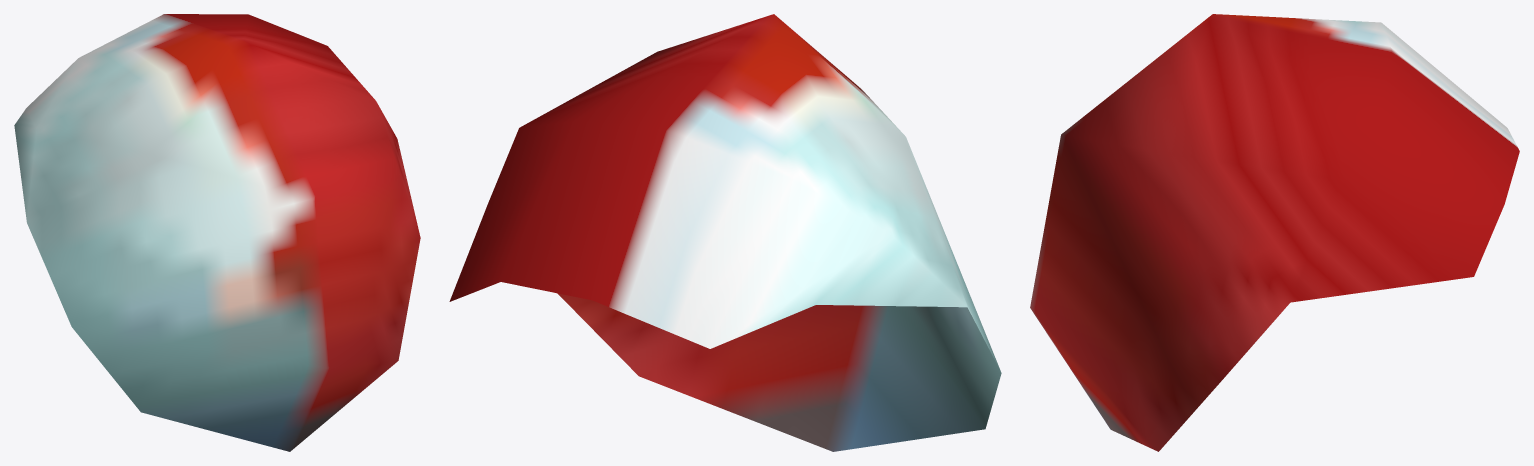
Rendered from fg_seedpitfall_out.dae.
3 views of the same model, side by side, from view 1: azimuth 30°, elevation 25°; view 2: azimuth 150°, elevation 25°; view 3: azimuth 270°, elevation 25° (orthographic). The views are drawn at different scales.
Parts seen in each view (by area): view 1: fg_seedpitfall_out; view 2: fg_seedpitfall_out; view 3: fg_seedpitfall_out.
Part boxes in pixels (bbox=[...]): fg_seedpitfall_out: bbox=[14, 14, 420, 451]; fg_seedpitfall_out: bbox=[449, 14, 1001, 451]; fg_seedpitfall_out: bbox=[1030, 14, 1519, 451].
Bounding box in the file's own units: 14.33 × 13.83 × 14.77.
Materials: 1 (1 with a texture image).
